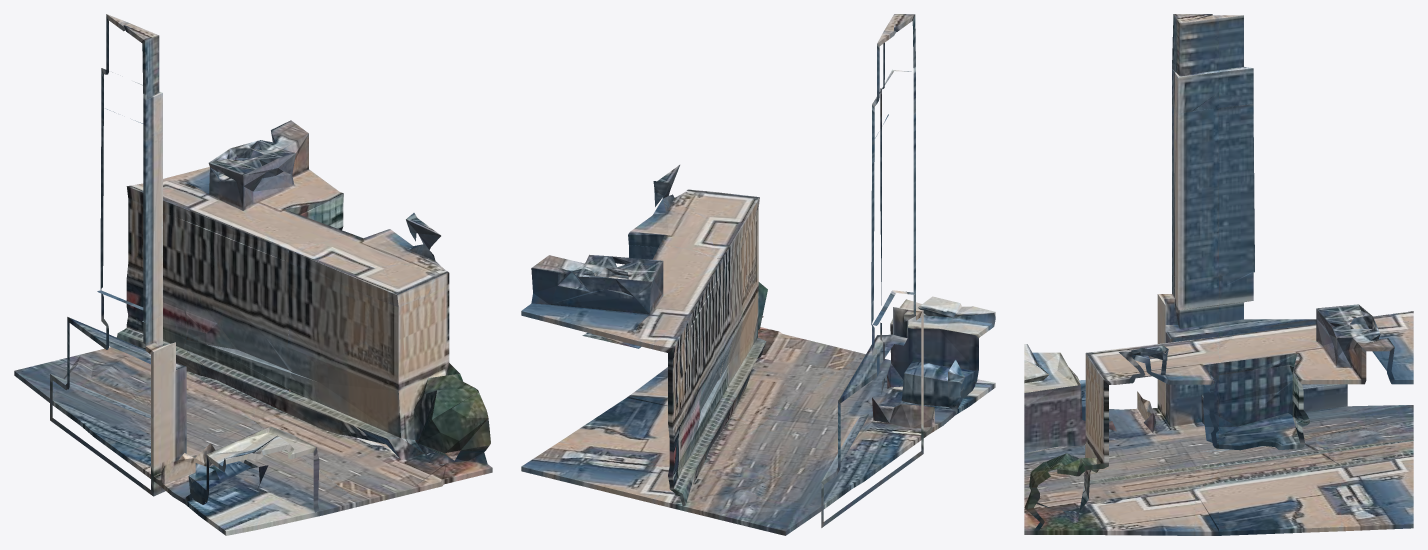
The model's file is chunk_-6_2.glb.
The picture shows the model from 3 angles, left to right: view 1: azimuth 30°, elevation 25°; view 2: azimuth 150°, elevation 25°; view 3: azimuth 270°, elevation 25°; orthographic projection. The views are drawn at different scales.
Visible parts, largest first — view 1: hero-chunk; view 2: hero-chunk; view 3: hero-chunk.
Boxes of the visible parts, x1,y1,x2,y2 form: hero-chunk: (14,14,492,535); hero-chunk: (521,14,995,535); hero-chunk: (1024,14,1413,535).
Size of the model in its own units: 56.66 by 89.31 by 76.32.
Materials: 3 (3 with a texture image).
